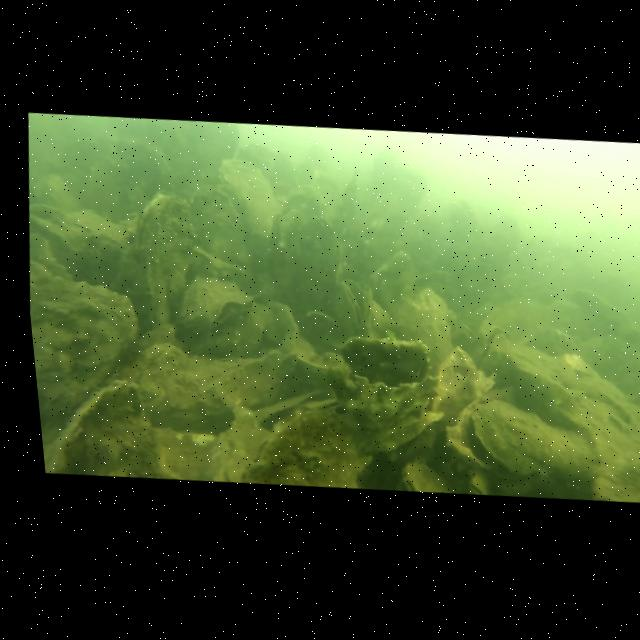Oyster-Closed: (26, 267, 152, 441), (232, 398, 381, 494), (122, 186, 206, 334), (126, 335, 231, 429)
Oyster-Indeterminate: (37, 372, 173, 483), (258, 187, 351, 317), (21, 198, 131, 289), (179, 178, 256, 274), (198, 400, 280, 487), (385, 283, 458, 368), (432, 344, 488, 421)
Oyster-Open: (315, 330, 450, 452), (439, 389, 601, 488), (172, 272, 261, 341), (332, 276, 377, 337), (470, 321, 516, 379), (397, 459, 451, 494), (464, 467, 494, 496)
